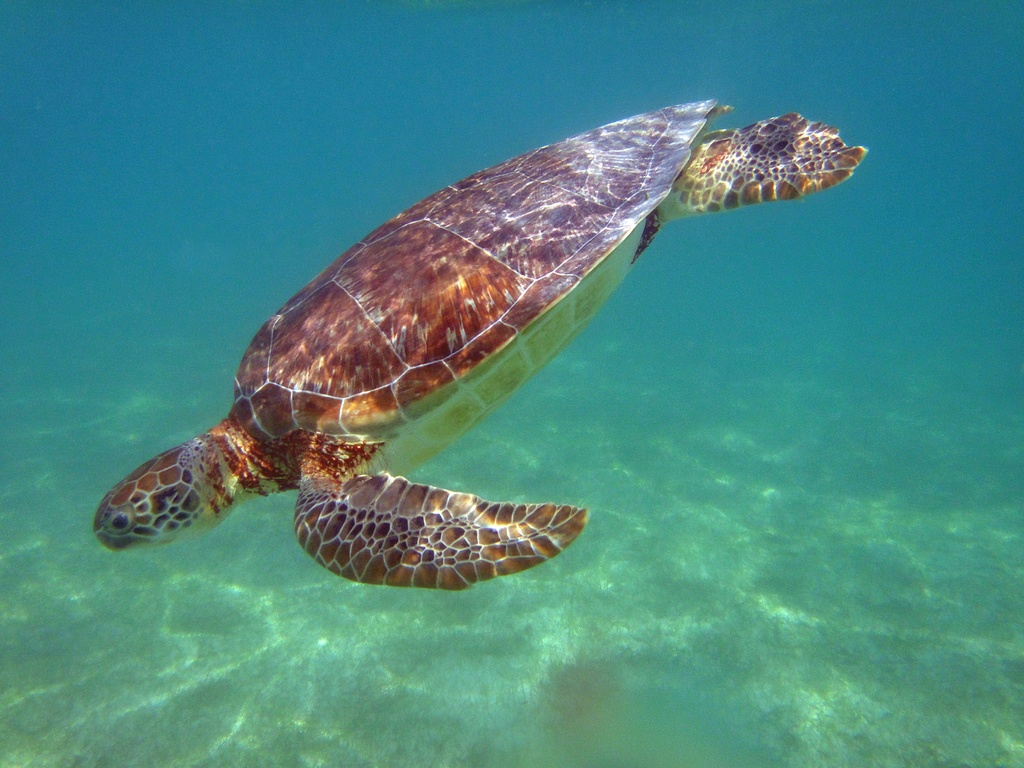Sea turtles: (89, 96, 871, 604)
